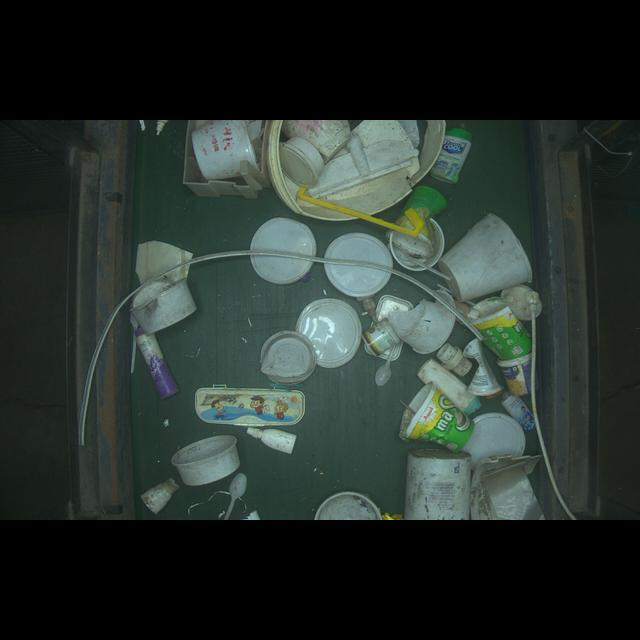mix PP: (192, 380, 313, 430), (399, 381, 470, 447), (137, 333, 185, 398), (436, 126, 473, 185), (248, 426, 297, 455)
